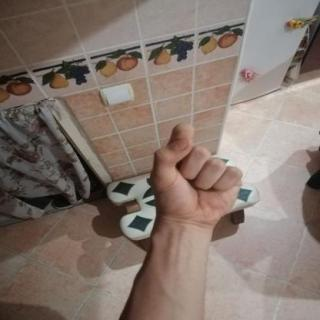FAA: (140, 116, 253, 236)
